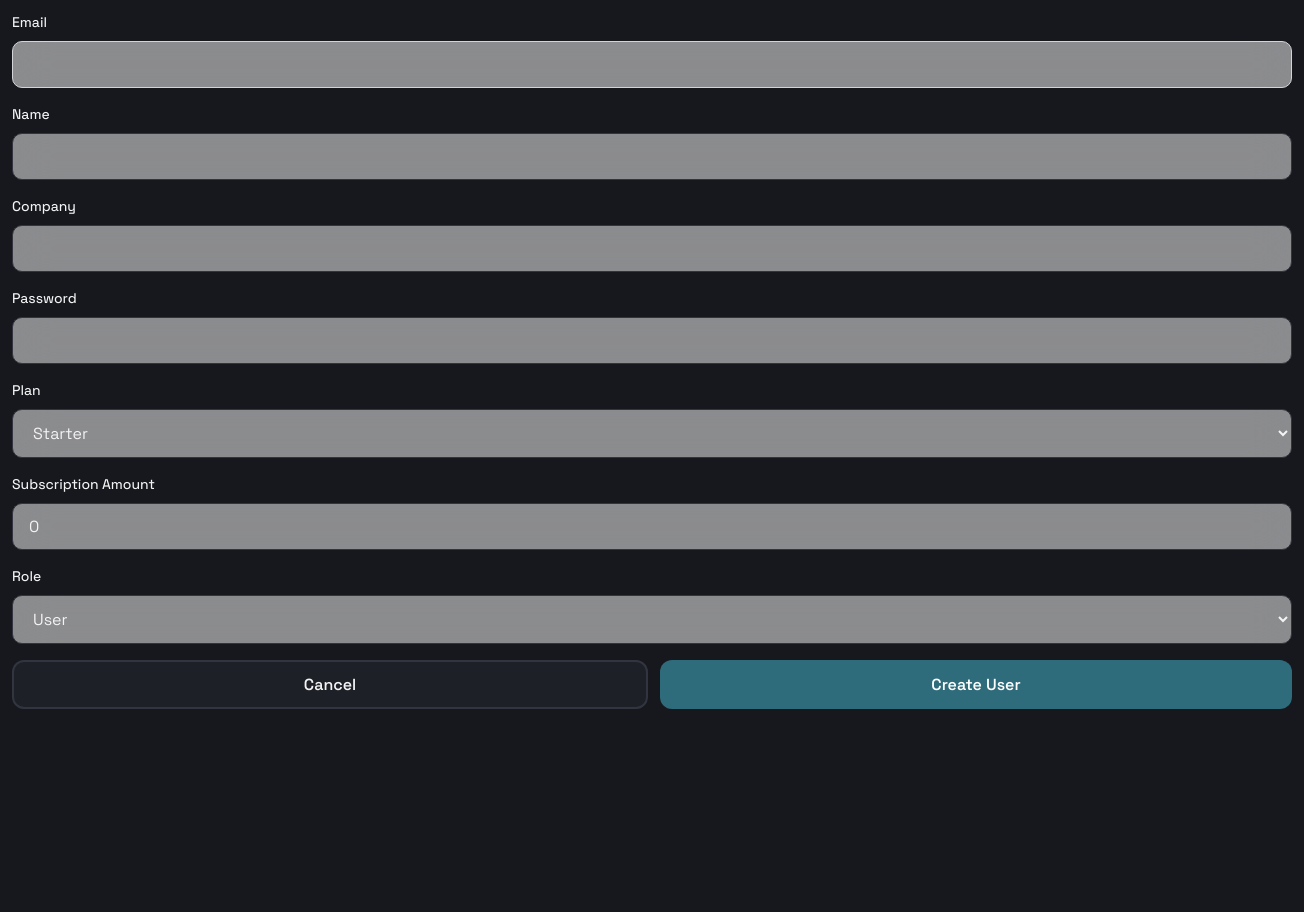
UserForm Component › Mode création › devrait valider les champs requis
The image size is (1304, 912).
Click the button "Create User" at [976, 684], box [660, 660, 1292, 709]
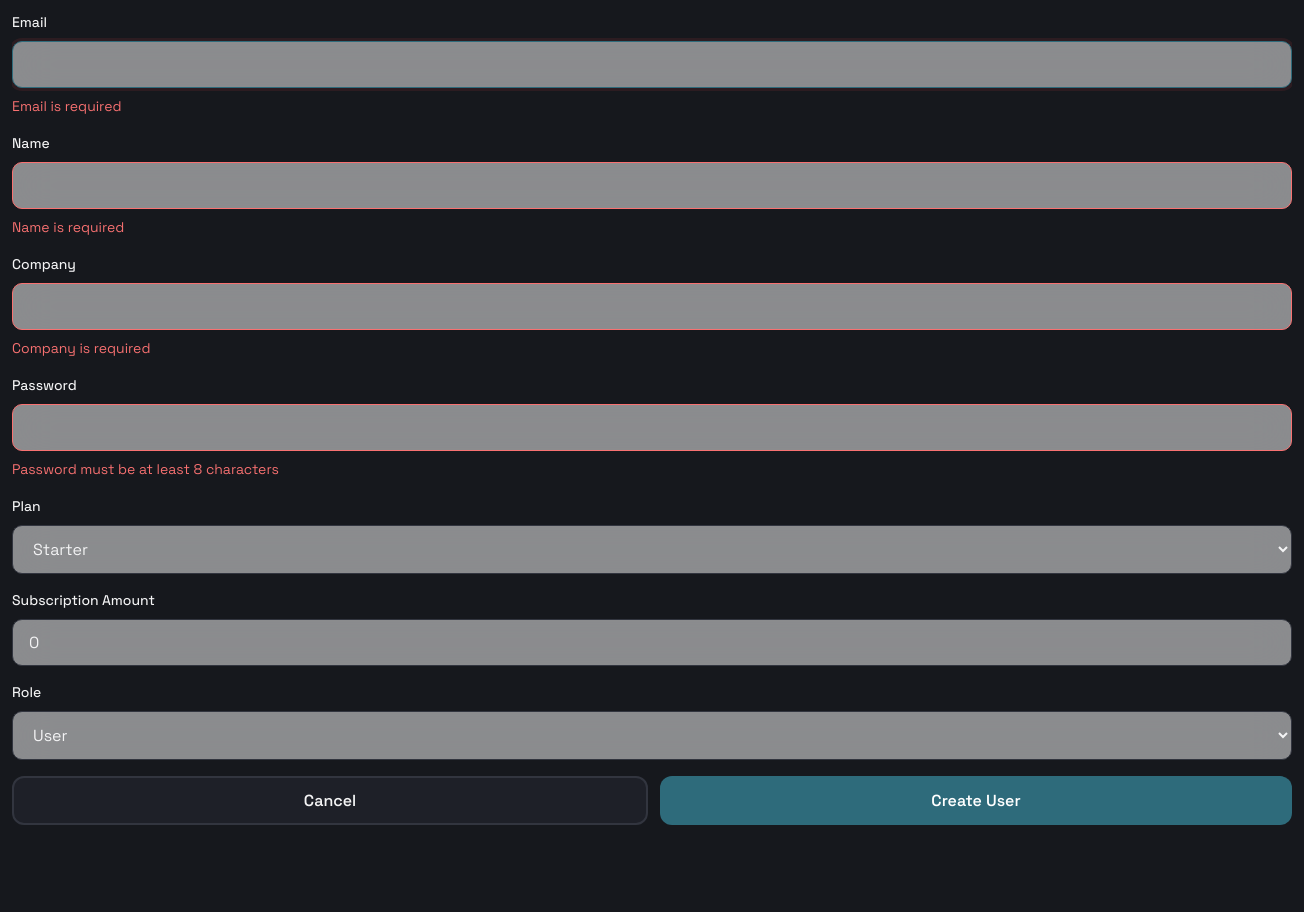
Expected: the text "Email is required" is shown, [12, 97, 122, 115]
Expected: the text "Name is required" is shown, [12, 218, 124, 236]
